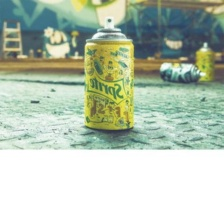aerosol_cans: (82, 14, 136, 134)
